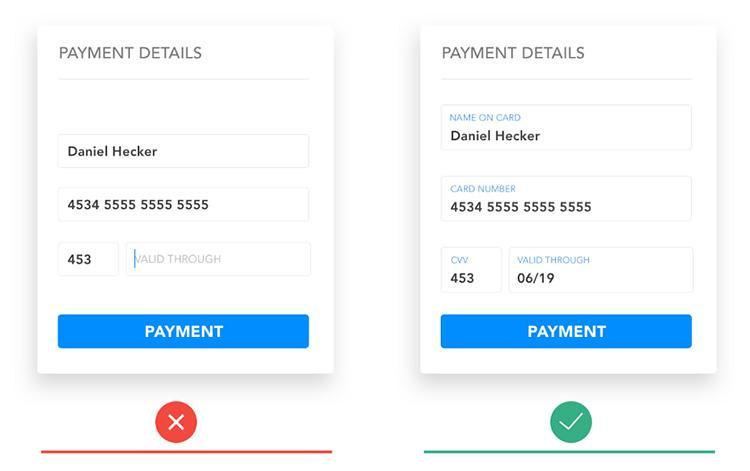button: (442, 315, 694, 351), (59, 315, 311, 349)
input: (442, 106, 693, 155), (442, 177, 693, 222), (58, 185, 311, 227), (59, 131, 310, 173), (58, 239, 312, 279), (512, 248, 695, 293), (442, 247, 502, 295)
